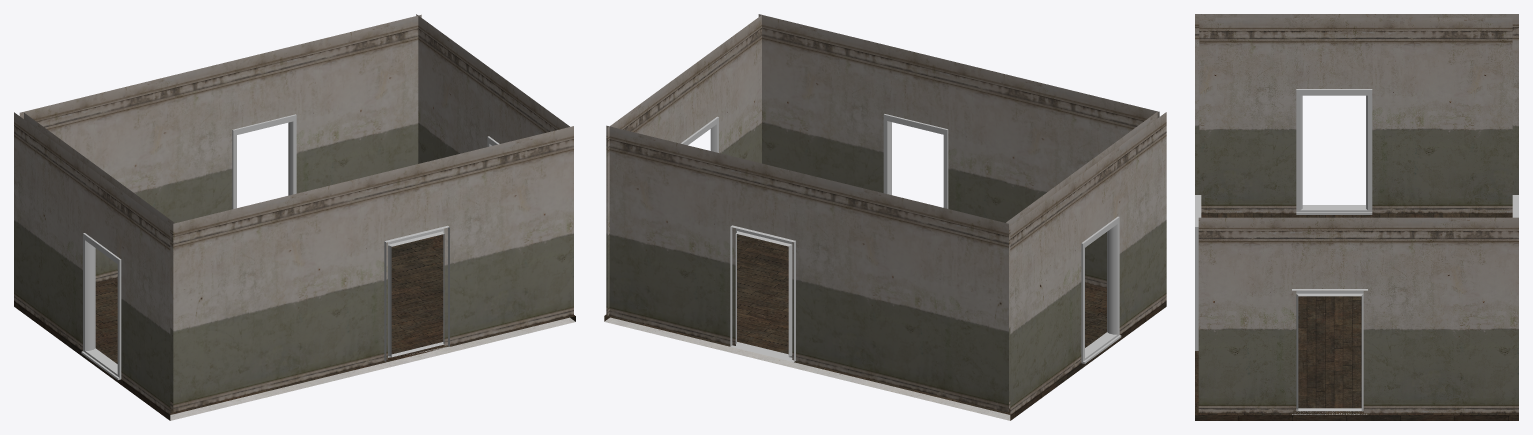
File: room_6m_x_9m_3_doors.fbx
3 views of the same model, side by side, from view 1: azimuth 30°, elevation 25°; view 2: azimuth 150°, elevation 25°; view 3: azimuth 270°, elevation 25° (orthographic). The views are drawn at different scales.
Visible parts, largest first — view 1: room_6m_x_9m_3_doors; view 2: room_6m_x_9m_3_doors; view 3: room_6m_x_9m_3_doors.
Part boxes in pixels (<box>): room_6m_x_9m_3_doors: <box>14,14,575,420</box>; room_6m_x_9m_3_doors: <box>604,14,1166,420</box>; room_6m_x_9m_3_doors: <box>1195,14,1518,420</box>.
Size of the model in its own units: 908 by 412 by 600.
